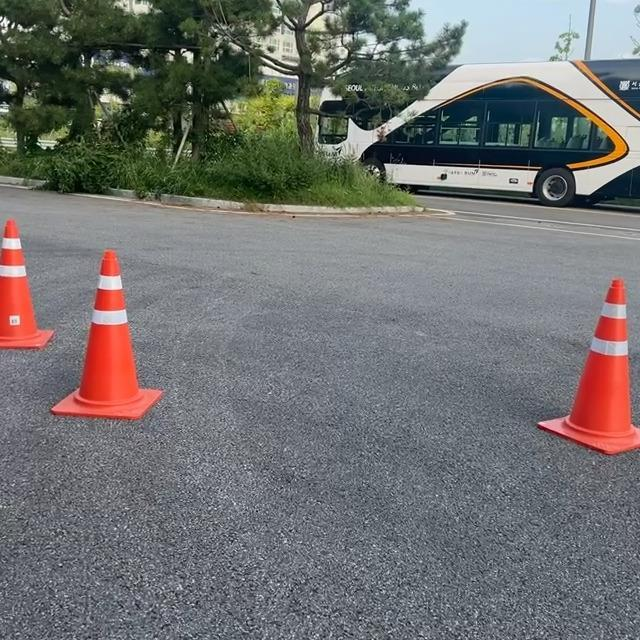fallen_object: (499, 217, 640, 545), (50, 210, 173, 454), (0, 187, 69, 407)
